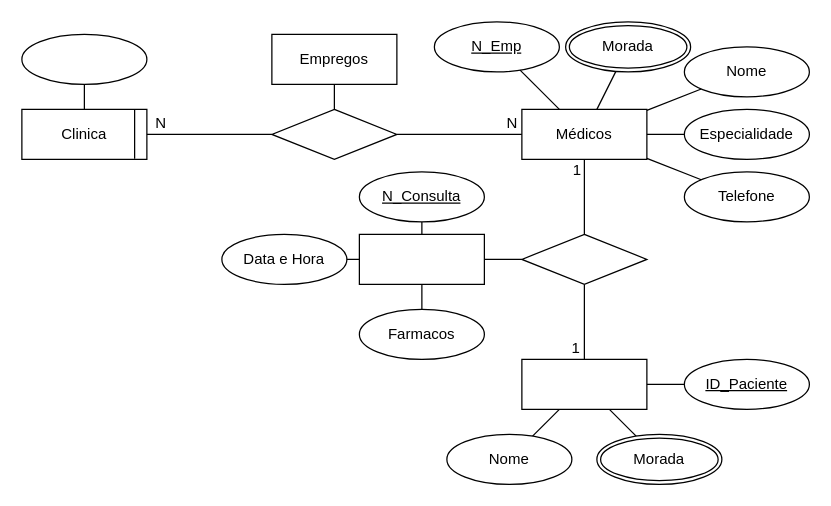
Some shapes in this 831 by 506 pixel diagram are drawn without their labels. The box of each missing label's shape, as (x1, y1, x2, y2) in pixels:
Codigo_Clinica: (21, 33, 147, 84)
Consultar: (521, 233, 647, 284)
Consultas: (358, 233, 484, 284)
Pacientes: (521, 358, 647, 409)
Trabalhar: (271, 108, 397, 159)
